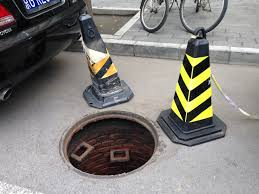Manhole-Open: (60, 106, 162, 177)
car: (1, 1, 96, 106)
